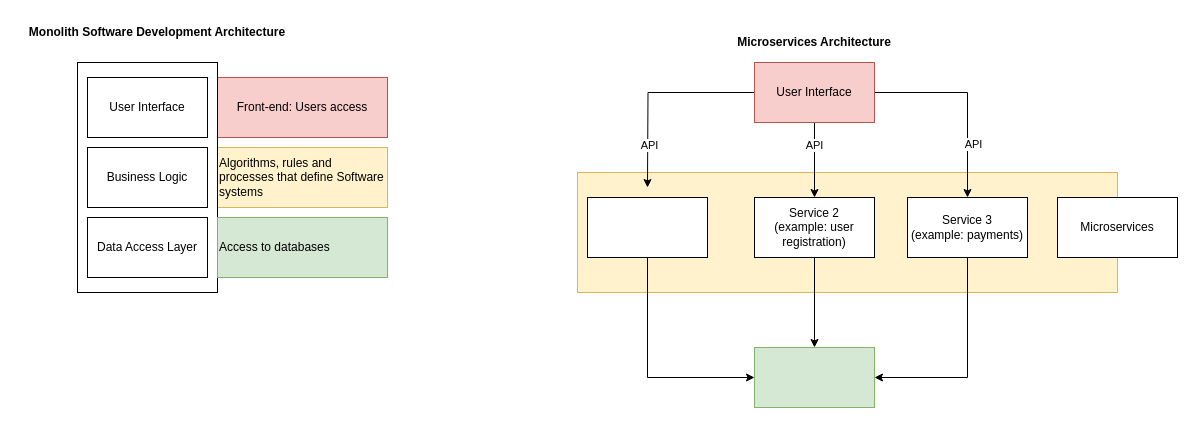
Image size: 1195x425. Some labels were removed from this diagram. The shapes that lost their labels are listed below. From the top down, each one's centre as x and y in pixels, then its label:
At point 647,227: "Service 1 (Ex. Queries)".
At point 814,377: "Other remote services".
